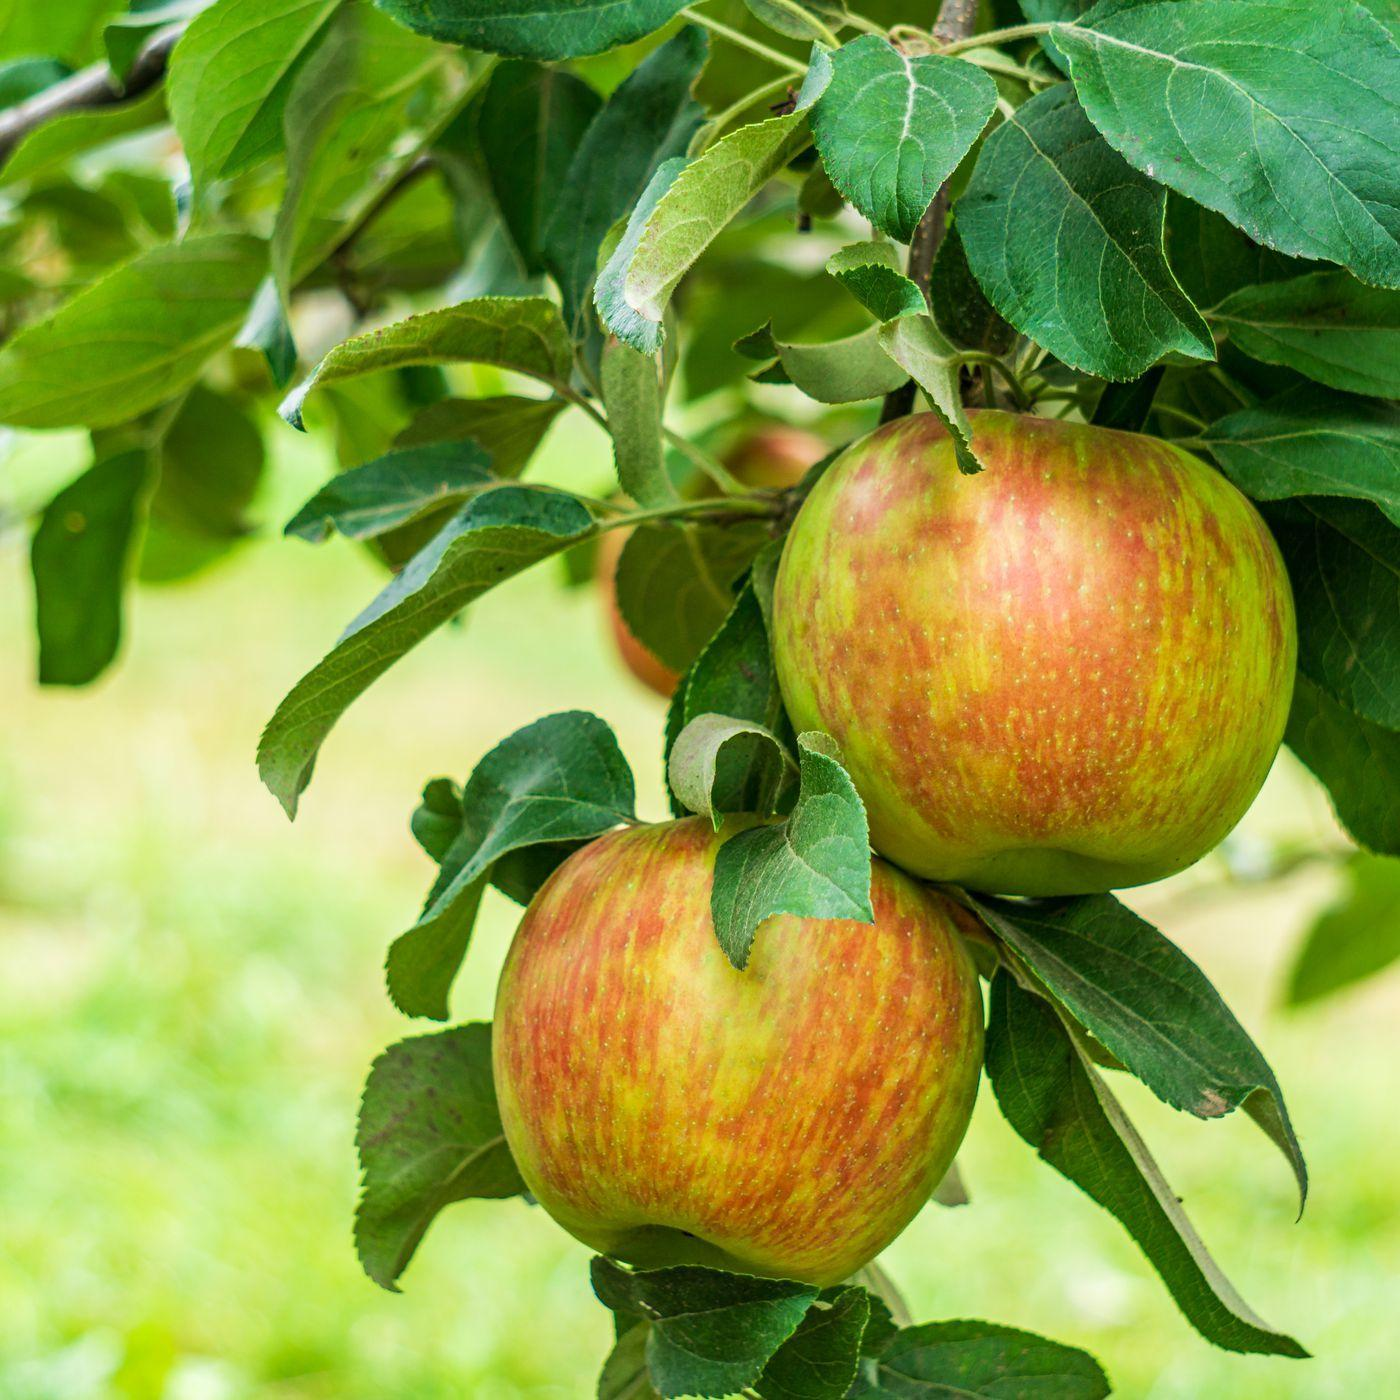apple: (772, 401, 1296, 894), (487, 841, 974, 1290)
